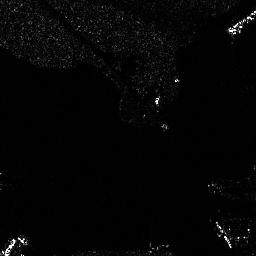ship: (225, 8, 256, 33)
